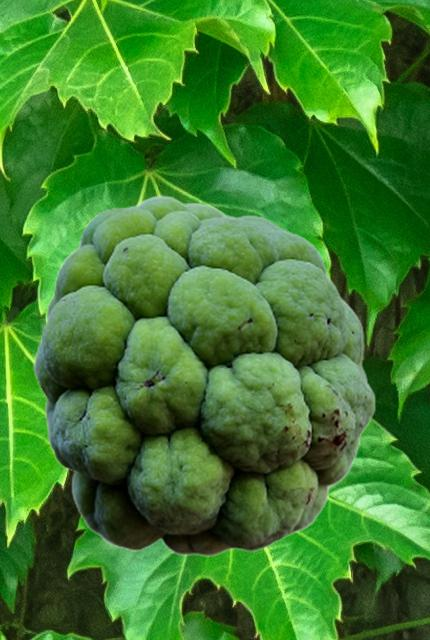atis: (33, 194, 375, 557)
